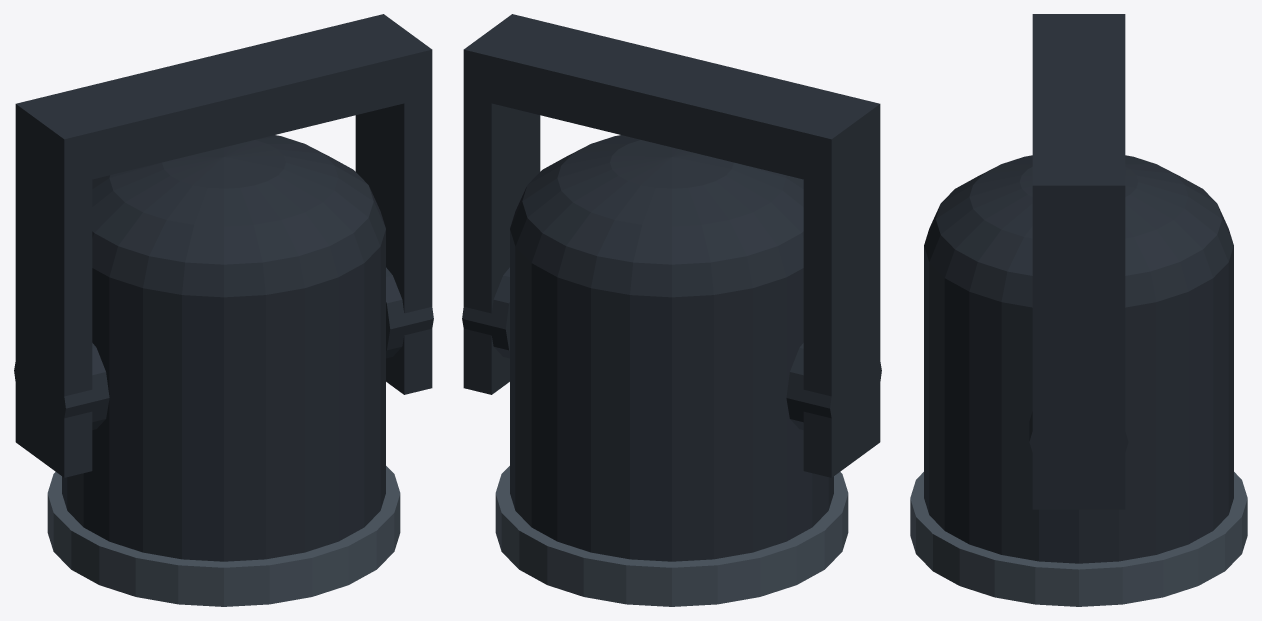
Rendered from led-par-x-in-1-no-clamp.glb.
3 views of the same model, side by side, from view 1: azimuth 30°, elevation 25°; view 2: azimuth 150°, elevation 25°; view 3: azimuth 270°, elevation 25° (orthographic). The views are drawn at different scales.
Parts seen in each view (by area): view 1: par-can, hanging-frame, lens-ring; view 2: par-can, hanging-frame, lens-ring; view 3: par-can, hanging-frame, lens-ring.
Part boxes in pixels (<box>): par-can: <box>62,135,385,561</box>; hanging-frame: <box>14,14,433,477</box>; lens-ring: <box>47,466,400,606</box>; par-can: <box>510,135,833,561</box>; hanging-frame: <box>462,14,881,477</box>; lens-ring: <box>495,466,848,606</box>; par-can: <box>924,155,1233,563</box>; hanging-frame: <box>1029,14,1128,509</box>; lens-ring: <box>910,472,1247,606</box>.
Size of the model in its own units: 0.236 by 0.2793 by 0.196.
